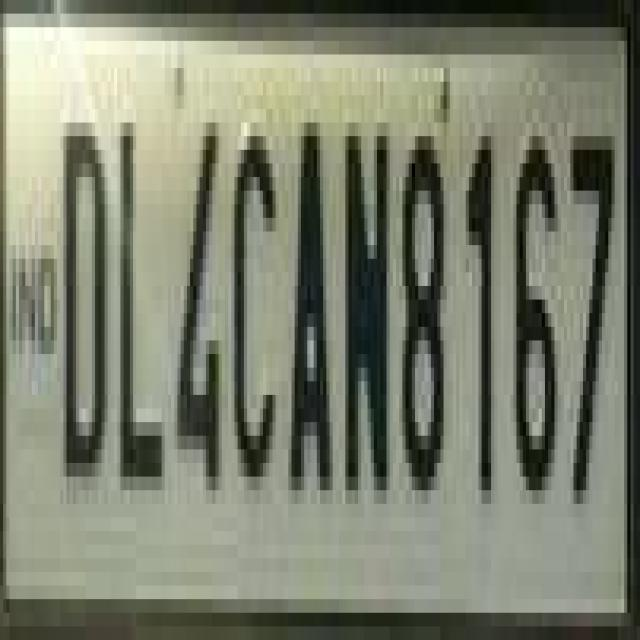license_plate: (3, 0, 608, 640)
